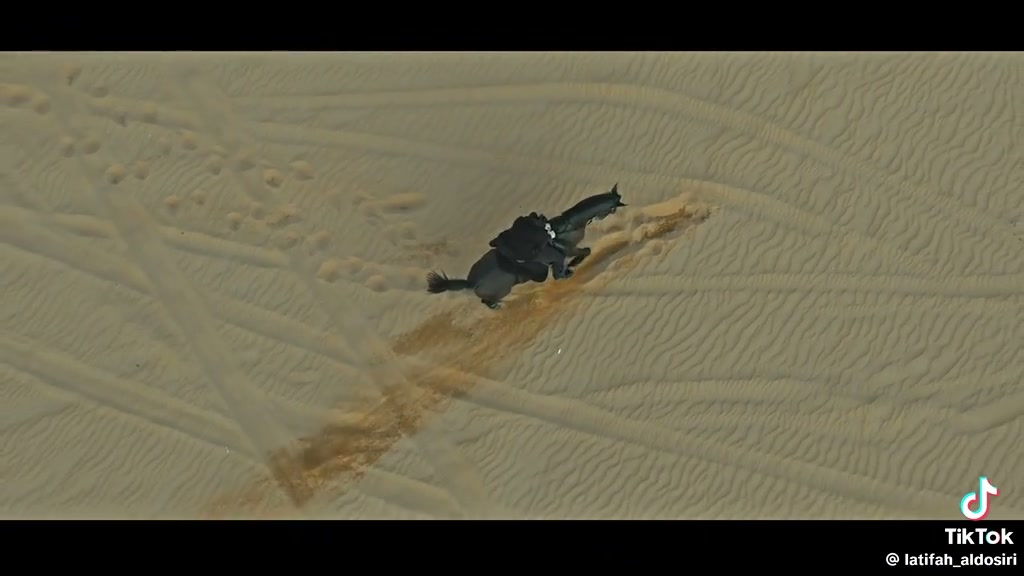animal: (427, 235, 551, 308), (548, 183, 626, 278)
human: (489, 212, 568, 281)
vehicle_track: (23, 234, 1009, 536), (176, 69, 525, 533), (249, 57, 1023, 248), (103, 99, 904, 271), (30, 85, 310, 515), (117, 209, 1012, 310), (14, 333, 465, 517)
